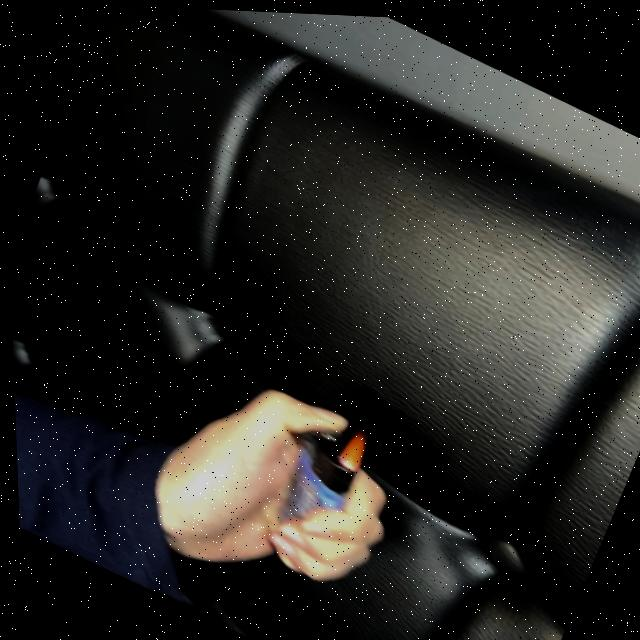Fire: (328, 418, 371, 475)
